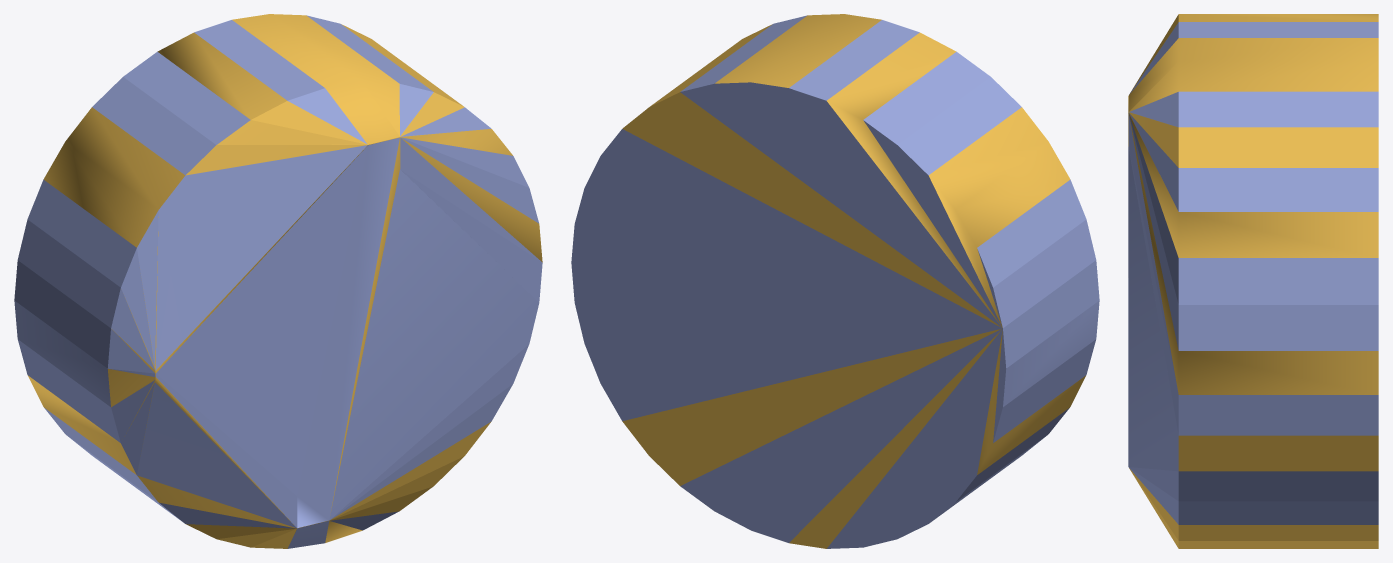
File: epastar_collision.obj
3 renders of one model, left to right at view 1: azimuth 30°, elevation 25°; view 2: azimuth 150°, elevation 25°; view 3: azimuth 270°, elevation 25°, orthographic. The views are drawn at different scales.
Parts seen in each view (by area): view 1: ESPAStar_PickNik_Host.001; view 2: ESPAStar_PickNik_Host.001; view 3: ESPAStar_PickNik_Host.001.
Boxes of the visible parts, x1,y1,x2,y2 form: ESPAStar_PickNik_Host.001: (14, 14, 542, 548); ESPAStar_PickNik_Host.001: (571, 14, 1099, 548); ESPAStar_PickNik_Host.001: (1128, 14, 1378, 548).
Size of the model in its own units: 1.64 by 1.64 by 0.7627.
